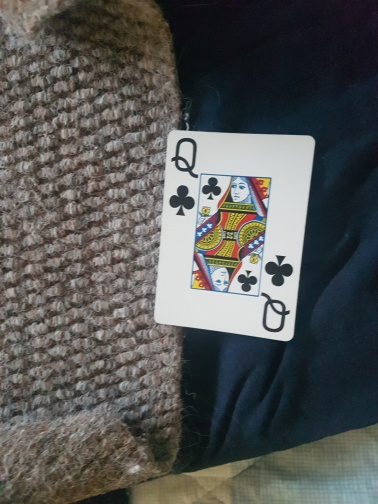queen: (155, 128, 316, 342)
